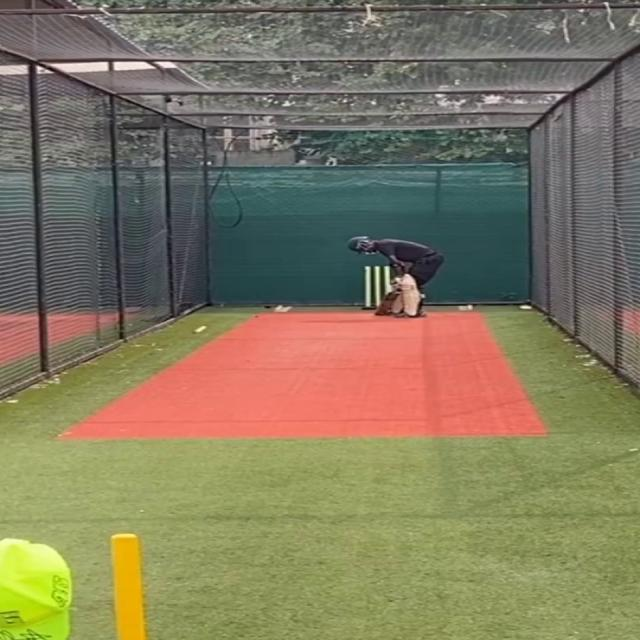stump: (362, 265, 391, 310)
